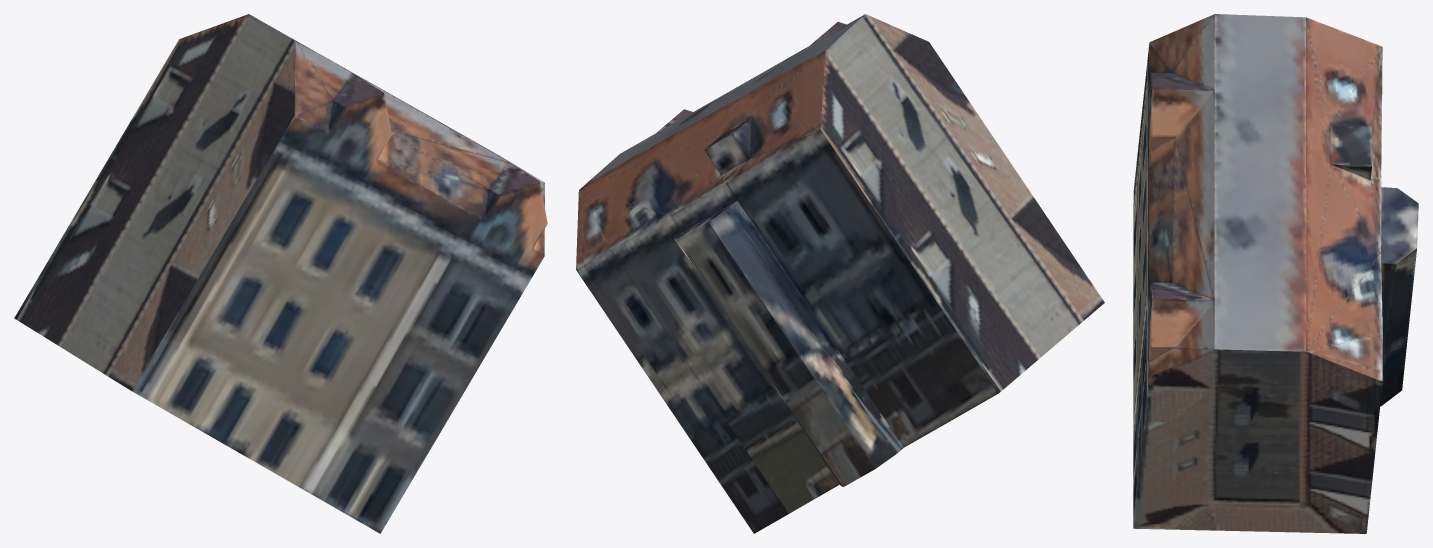
3 views of the same model, side by side, from view 1: azimuth 30°, elevation 25°; view 2: azimuth 150°, elevation 25°; view 3: azimuth 270°, elevation 25° (orthographic). The views are drawn at different scales.
Parts seen in each view (by area): view 1: BAG_0599100000688742 (×4); view 2: BAG_0599100000688742 (×5); view 3: BAG_0599100000688742 (×6).
Part boxes in pixels (x1=…): BAG_0599100000688742 (×4): x1=14, y1=14, x2=547, y2=533; BAG_0599100000688742 (×5): x1=576, y1=14, x2=1104, y2=533; BAG_0599100000688742 (×6): x1=1133, y1=14, x2=1418, y2=533.
Size of the model in its own units: 17.54 by 17.7 by 9.16.
1 material, 1 textured.
